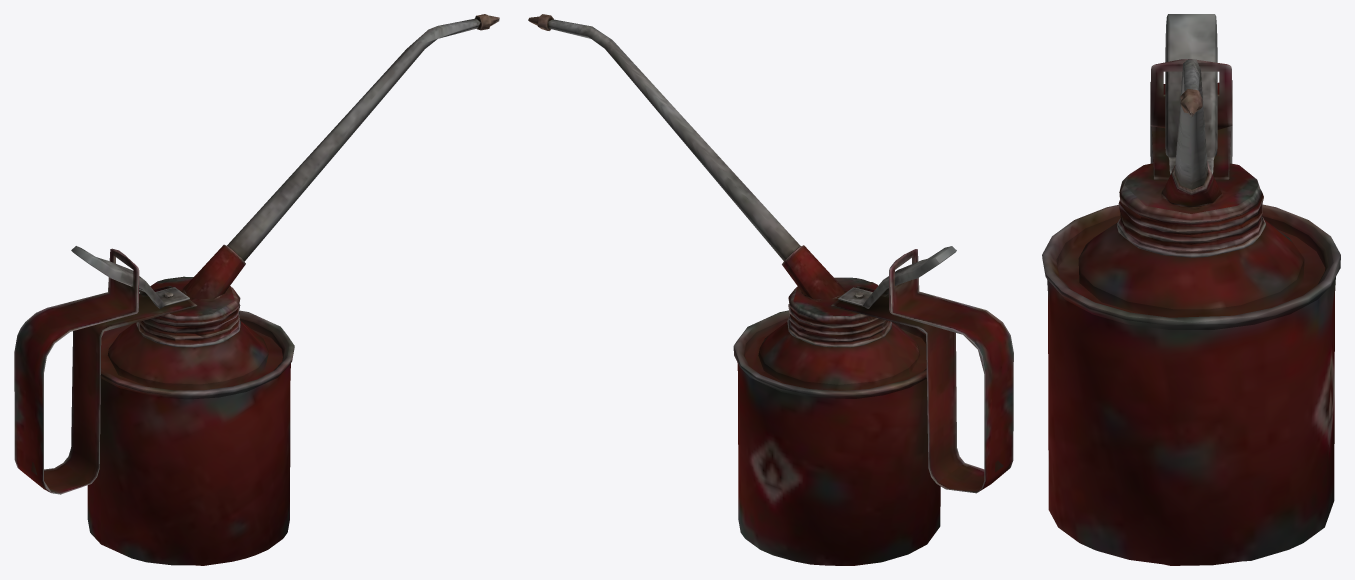
The model's file is oilcan.glb.
The picture shows the model from 3 angles, left to right: view 1: azimuth 30°, elevation 25°; view 2: azimuth 150°, elevation 25°; view 3: azimuth 270°, elevation 25°; orthographic projection. The views are drawn at different scales.
Visible parts, largest first — view 1: small_oil_can_01; view 2: small_oil_can_01; view 3: small_oil_can_01.
Boxes of the visible parts, left/top/right/bottom form: small_oil_can_01: left=14, top=14, right=499, bottom=565; small_oil_can_01: left=528, top=14, right=1013, bottom=565; small_oil_can_01: left=1042, top=14, right=1340, bottom=565.
Bounding box in the file's own units: 0.2657 × 0.2367 × 0.1034.
Materials: 1 (1 with a texture image).
